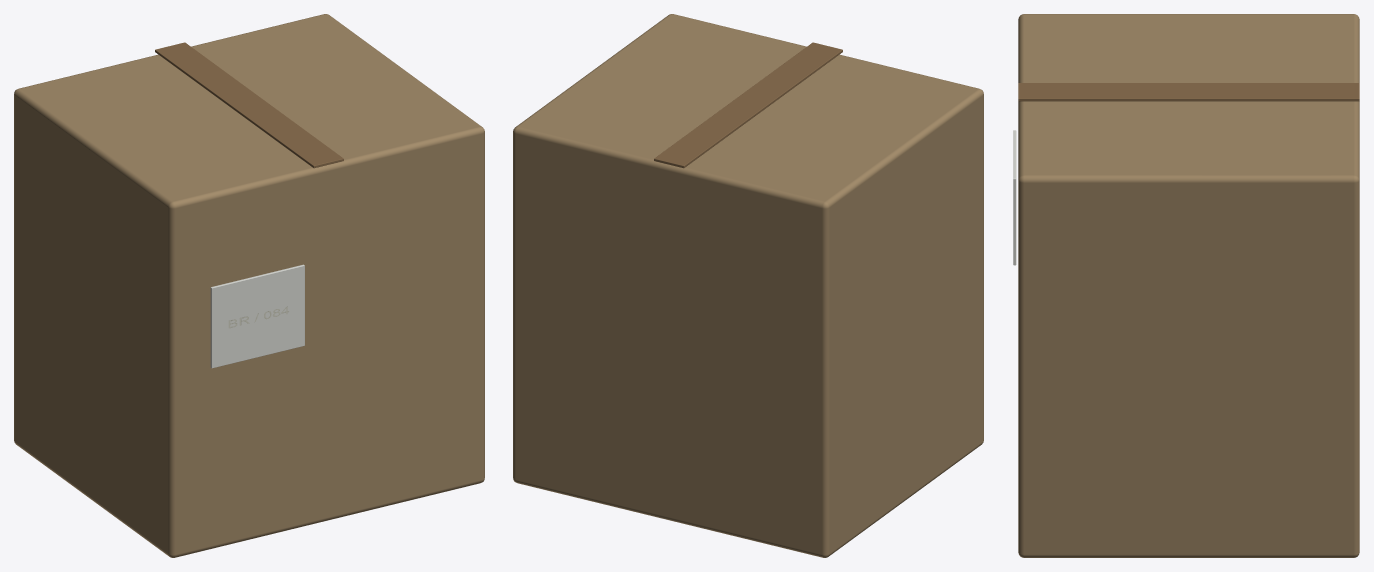
File: crate.glb
The picture shows the model from 3 angles, left to right: view 1: azimuth 30°, elevation 25°; view 2: azimuth 150°, elevation 25°; view 3: azimuth 270°, elevation 25°; orthographic projection. The views are drawn at different scales.
Visible parts, largest first — view 1: crate; view 2: crate; view 3: crate.
Part boxes in pixels (x1,y1,x2,y2): crate: (14,14,484,557); crate: (513,14,983,557); crate: (1013,14,1359,557).
Bounding box in the file's own units: 0.78 × 0.849 × 0.692.
4 materials, 1 textured.
